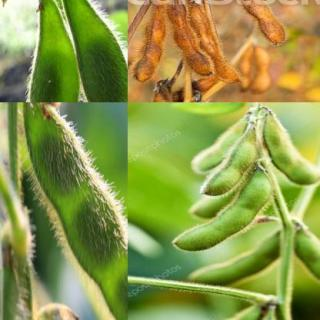soya: (23, 103, 127, 320), (172, 172, 272, 252), (61, 0, 127, 102), (26, 0, 78, 101), (184, 1, 244, 84), (190, 231, 282, 284), (264, 111, 319, 187), (200, 130, 258, 196), (206, 0, 288, 45), (166, 0, 212, 78), (192, 116, 248, 172), (131, 0, 166, 82), (292, 228, 320, 302), (189, 195, 230, 219), (139, 89, 173, 102)
